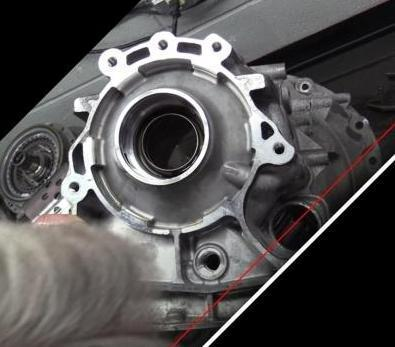hole: (268, 137, 289, 157), (64, 176, 84, 197), (101, 51, 121, 71), (207, 37, 225, 55), (153, 34, 170, 52)
